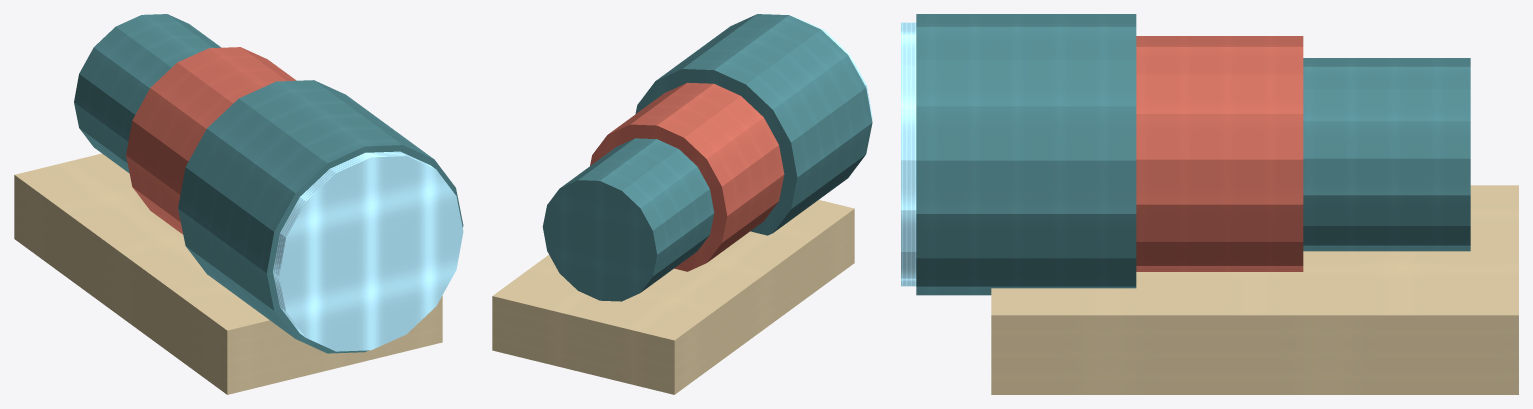
File: atlas100-s075-a05.glb
3 renders of one model, left to right at view 1: azimuth 30°, elevation 25°; view 2: azimuth 150°, elevation 25°; view 3: azimuth 270°, elevation 25°, orthographic. The views are drawn at different scales.
Visible parts, largest first — view 1: atlas100-s075-a05:part-004, atlas100-s075-a05:part-003, atlas100-s075-a05:part-002, atlas100-s075-a05:part-001, atlas100-s075-a05:part-000; view 2: atlas100-s075-a05:part-004, atlas100-s075-a05:part-002, atlas100-s075-a05:part-000, atlas100-s075-a05:part-001; view 3: atlas100-s075-a05:part-004, atlas100-s075-a05:part-002, atlas100-s075-a05:part-001, atlas100-s075-a05:part-000, atlas100-s075-a05:part-003.
Boxes of the visible parts, box(x1,y1,x2,y2) form: atlas100-s075-a05:part-004: box(14, 153, 442, 394); atlas100-s075-a05:part-003: box(273, 151, 463, 351); atlas100-s075-a05:part-002: box(178, 80, 463, 353); atlas100-s075-a05:part-001: box(126, 47, 296, 234); atlas100-s075-a05:part-000: box(74, 14, 220, 173); atlas100-s075-a05:part-004: box(492, 200, 854, 394); atlas100-s075-a05:part-002: box(635, 14, 872, 235); atlas100-s075-a05:part-000: box(542, 138, 714, 301); atlas100-s075-a05:part-001: box(590, 82, 784, 271); atlas100-s075-a05:part-004: box(991, 185, 1518, 394); atlas100-s075-a05:part-002: box(916, 14, 1136, 295); atlas100-s075-a05:part-001: box(1136, 36, 1303, 271); atlas100-s075-a05:part-000: box(1303, 58, 1470, 251); atlas100-s075-a05:part-003: box(901, 22, 916, 286).
Size of the model in its own units: 0.3822 by 0.415 by 0.7671.
Materials: 4 (4 with a texture image).
